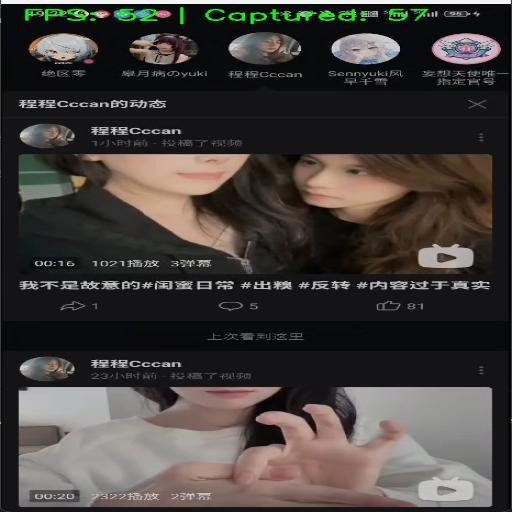close: (463, 96, 495, 112)
